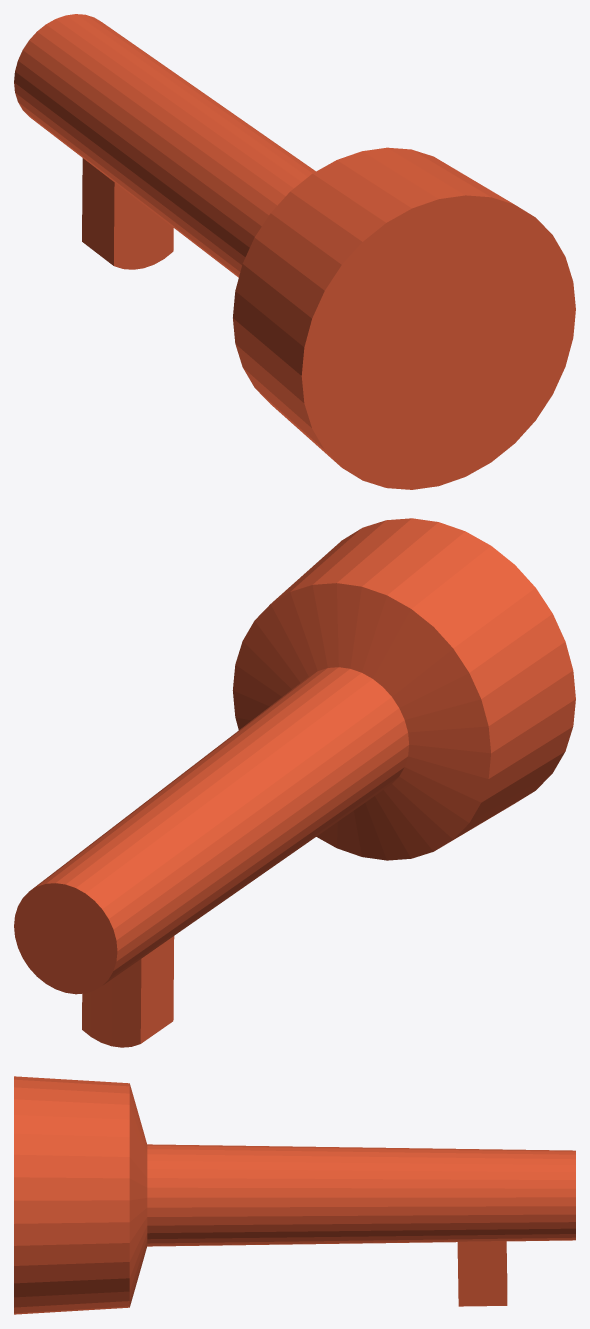
The model's file is big gun.glb.
3 views of the same model, one above another, from view 1: azimuth 30°, elevation 25°; view 2: azimuth 150°, elevation 25°; view 3: azimuth 270°, elevation 25° (orthographic). The views are drawn at different scales.
Parts seen in each view (by area): view 1: Cylinder; view 2: Cylinder; view 3: Cylinder.
Part boxes in pixels (left/top/right/bottom): Cylinder: left=14, top=14, right=575, bottom=489; Cylinder: left=14, top=518, right=575, bottom=1047; Cylinder: left=14, top=1076, right=575, bottom=1314.
Bounding box in the file's own units: 0.867 × 0.867 × 2.04.
